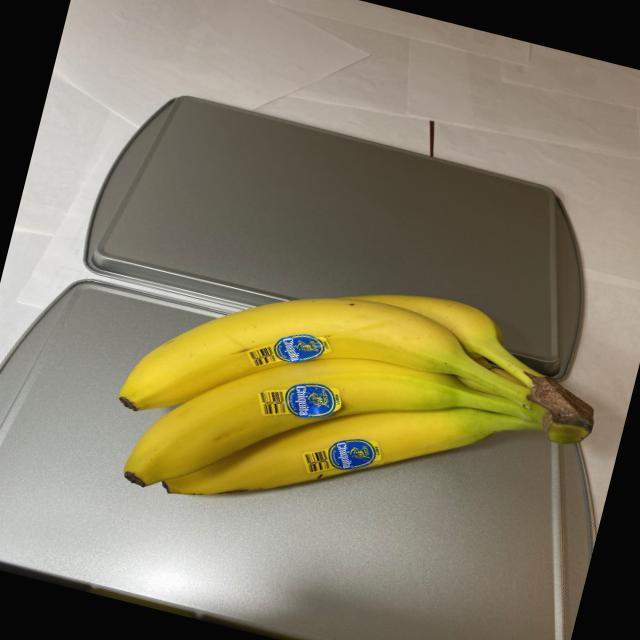banana: (94, 222, 626, 608)
